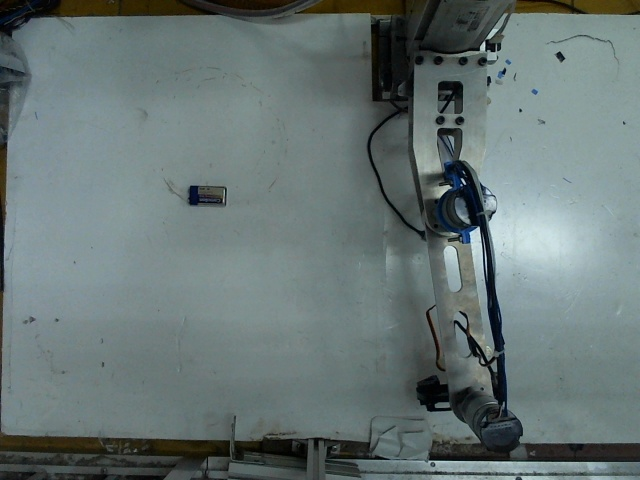battery: (187, 177, 231, 207)
